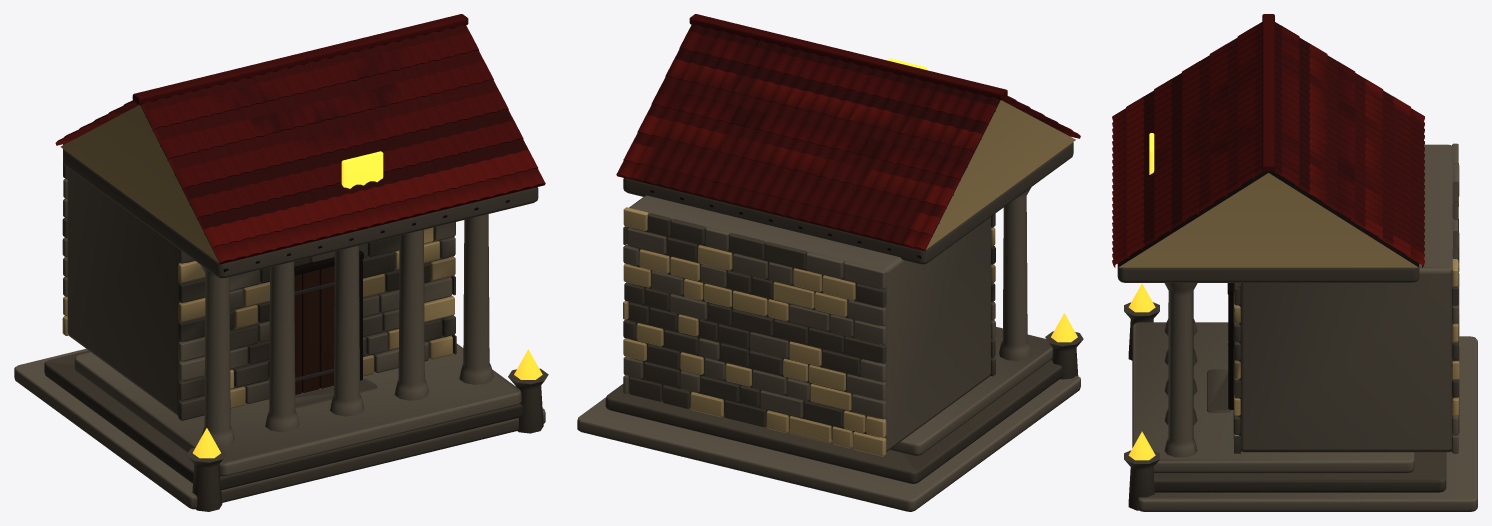
Rendered from Templo.fbx.
The picture shows the model from 3 angles, left to right: view 1: azimuth 30°, elevation 25°; view 2: azimuth 150°, elevation 25°; view 3: azimuth 270°, elevation 25°; orthographic projection. The views are drawn at different scales.
Parts seen in each view (by area): view 1: Templo; view 2: Templo; view 3: Templo.
Part boxes in pixels (x1=…): Templo: x1=14, y1=14, x2=548, y2=511; Templo: x1=577, y1=14, x2=1083, y2=511; Templo: x1=1112, y1=14, x2=1477, y2=511.
Size of the model in its own units: 8 by 7.74 by 7.52.
